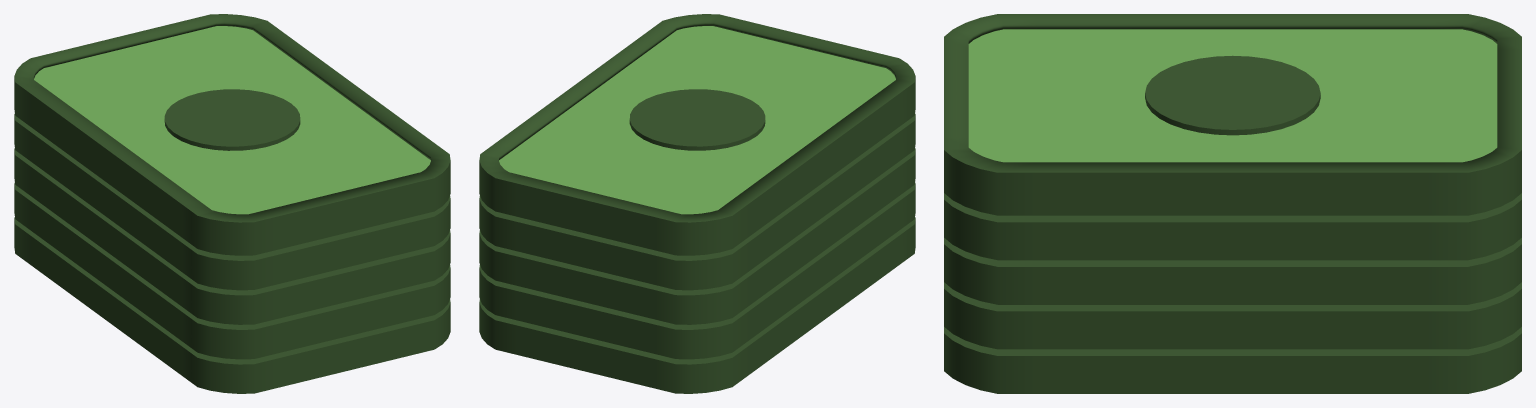
File: moneyknty.fbx
3 views of the same model, side by side, from view 1: azimuth 30°, elevation 25°; view 2: azimuth 150°, elevation 25°; view 3: azimuth 270°, elevation 25° (orthographic). The views are drawn at different scales.
Visible parts, largest first — view 1: Cube; view 2: Cube; view 3: Cube.
Part boxes in pixels (box(x1,y1,x2,y2)): Cube: box(14, 14, 450, 393); Cube: box(479, 14, 915, 393); Cube: box(944, 14, 1521, 393).
Bounding box in the file's own units: 13.74 × 8.94 × 21.12.
